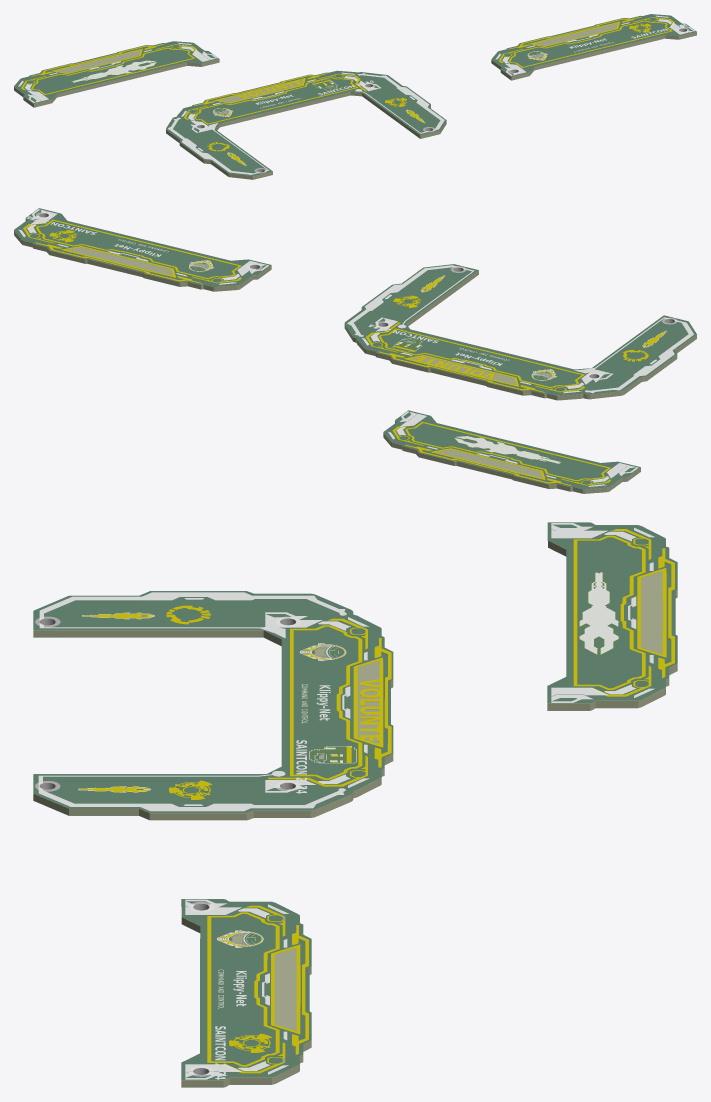
Rendered from volunteer-topper-v5.glb.
3 renders of one model, top to bottom at view 1: azimuth 30°, elevation 25°; view 2: azimuth 150°, elevation 25°; view 3: azimuth 270°, elevation 25°, orthographic. The views are drawn at different scales.
Visible parts, largest first — view 1: =>[0:1:1:7], =>[0:1:1:9], =>[0:1:1:2], =>[0:1:1:5]; view 2: =>[0:1:1:7], =>[0:1:1:9], =>[0:1:1:2], =>[0:1:1:5]; view 3: =>[0:1:1:7], =>[0:1:1:9], =>[0:1:1:2], =>[0:1:1:5].
Boxes of the visible parts, left/top/right/bottom form: =>[0:1:1:7]: left=14, top=14, right=696, bottom=179; =>[0:1:1:9]: left=14, top=15, right=696, bottom=179; =>[0:1:1:2]: left=21, top=17, right=689, bottom=173; =>[0:1:1:5]: left=18, top=15, right=694, bottom=174; =>[0:1:1:7]: left=14, top=208, right=696, bottom=493; =>[0:1:1:9]: left=14, top=209, right=696, bottom=493; =>[0:1:1:2]: left=23, top=212, right=677, bottom=485; =>[0:1:1:5]: left=19, top=209, right=693, bottom=486; =>[0:1:1:7]: left=33, top=522, right=677, bottom=1087; =>[0:1:1:9]: left=33, top=523, right=677, bottom=1087; =>[0:1:1:2]: left=35, top=529, right=674, bottom=1076; =>[0:1:1:5]: left=38, top=523, right=654, bottom=1079.
Size of the model in its own units: 0.258 by 0.00167 by 0.126.
4 materials, 4 textured.
